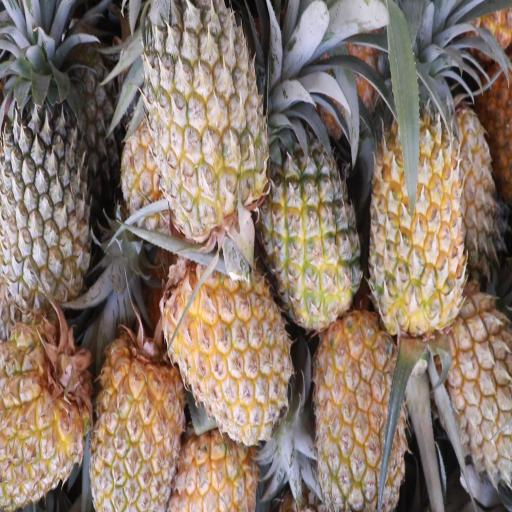------------------------------: (139, 1, 272, 271), (258, 85, 363, 338)
Pineapple - v8 v1: (364, 50, 472, 350), (160, 229, 294, 449), (308, 296, 410, 512), (0, 302, 97, 512), (88, 321, 188, 512), (445, 504, 451, 512)
